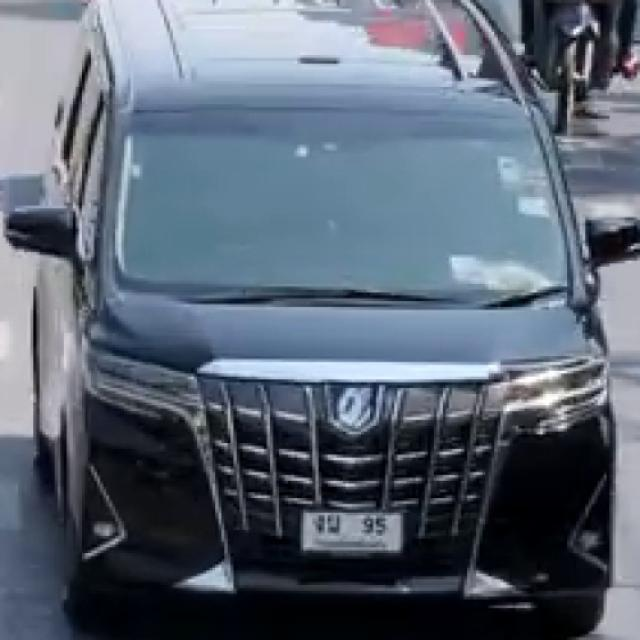plate: (304, 510, 399, 552)
